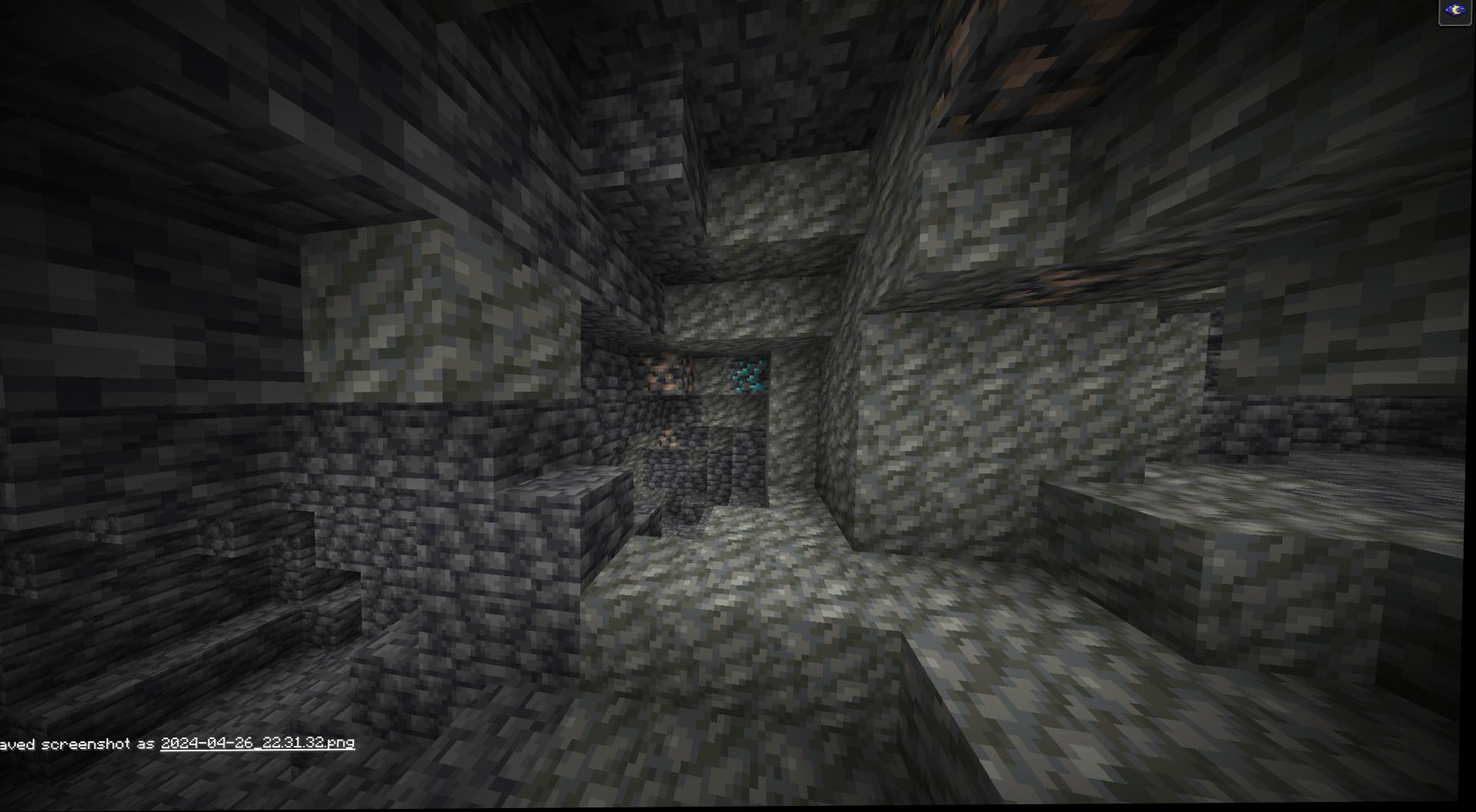diamond ore: (733, 356, 770, 396)
iron ore: (935, 0, 1139, 136), (983, 255, 1192, 310), (644, 358, 686, 396), (657, 424, 683, 449)
